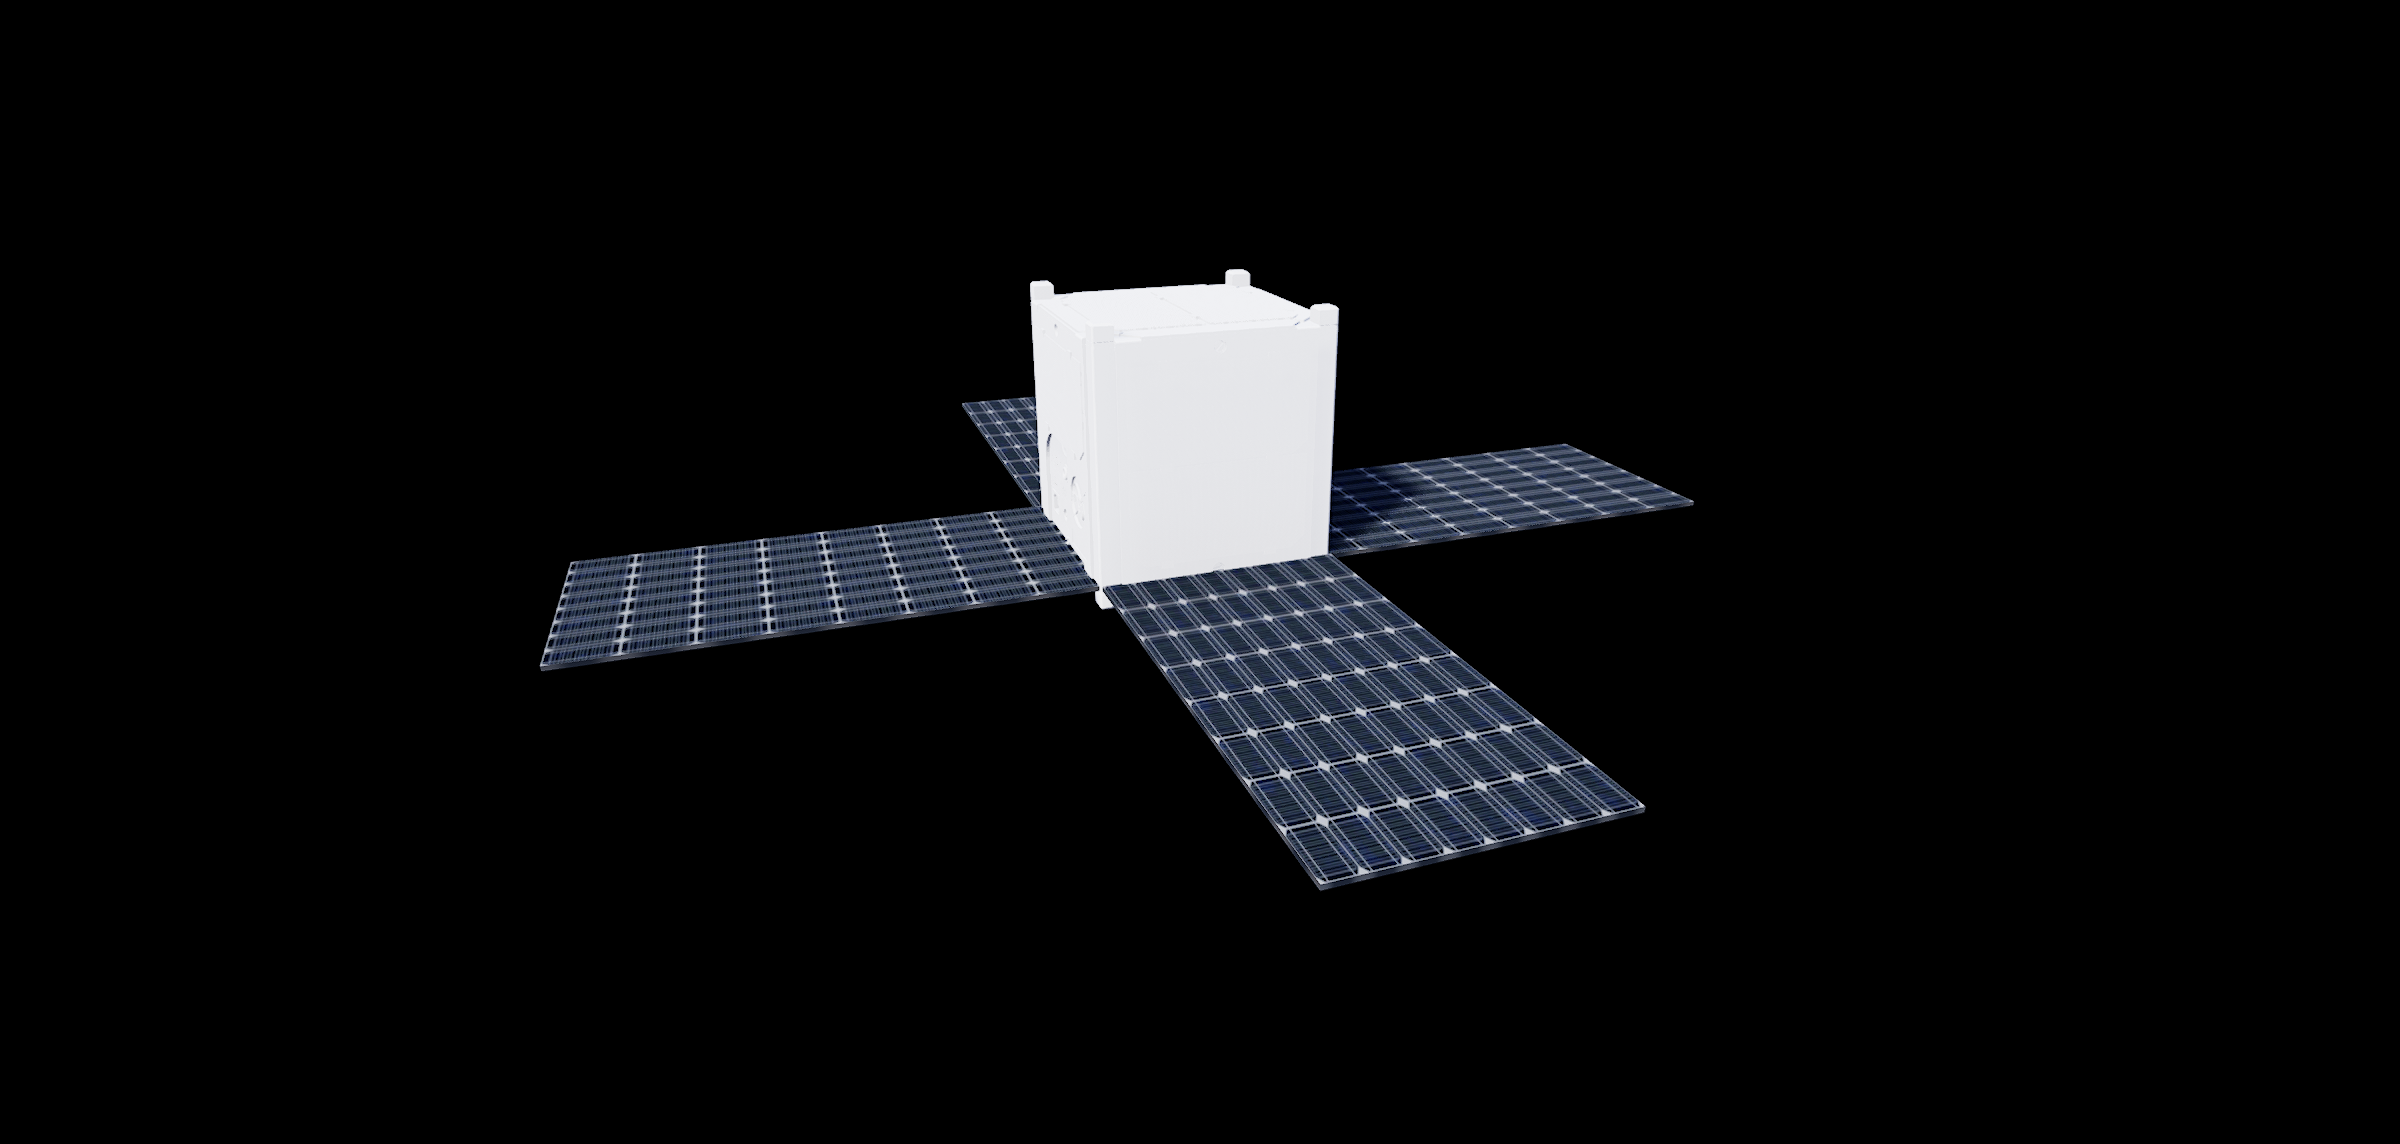satellite: (484, 230, 1746, 907)
